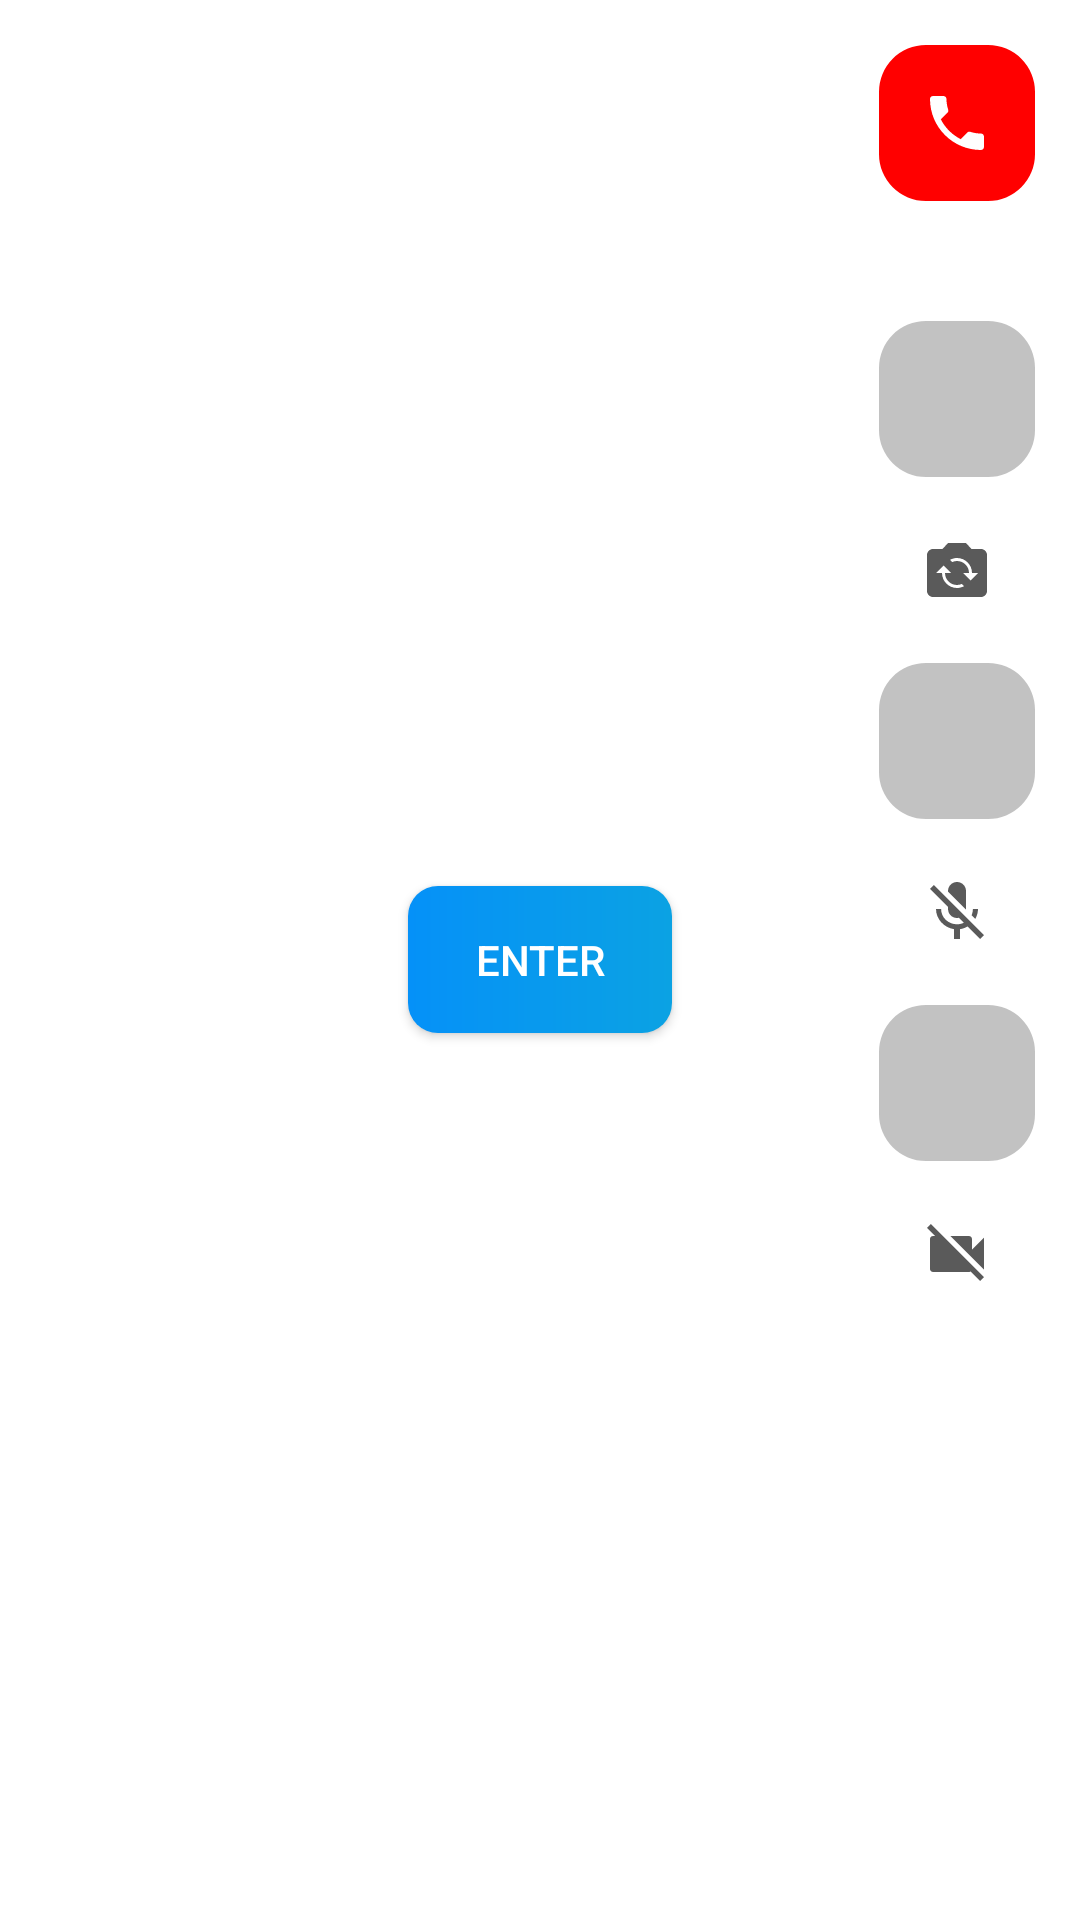

Screen size 1080*1920. Icon name, then its center in pixels as point (x, y):
back camera: point (957, 570)
end call: point (957, 123)
mic off: point (957, 910)
vid off: point (955, 1252)
